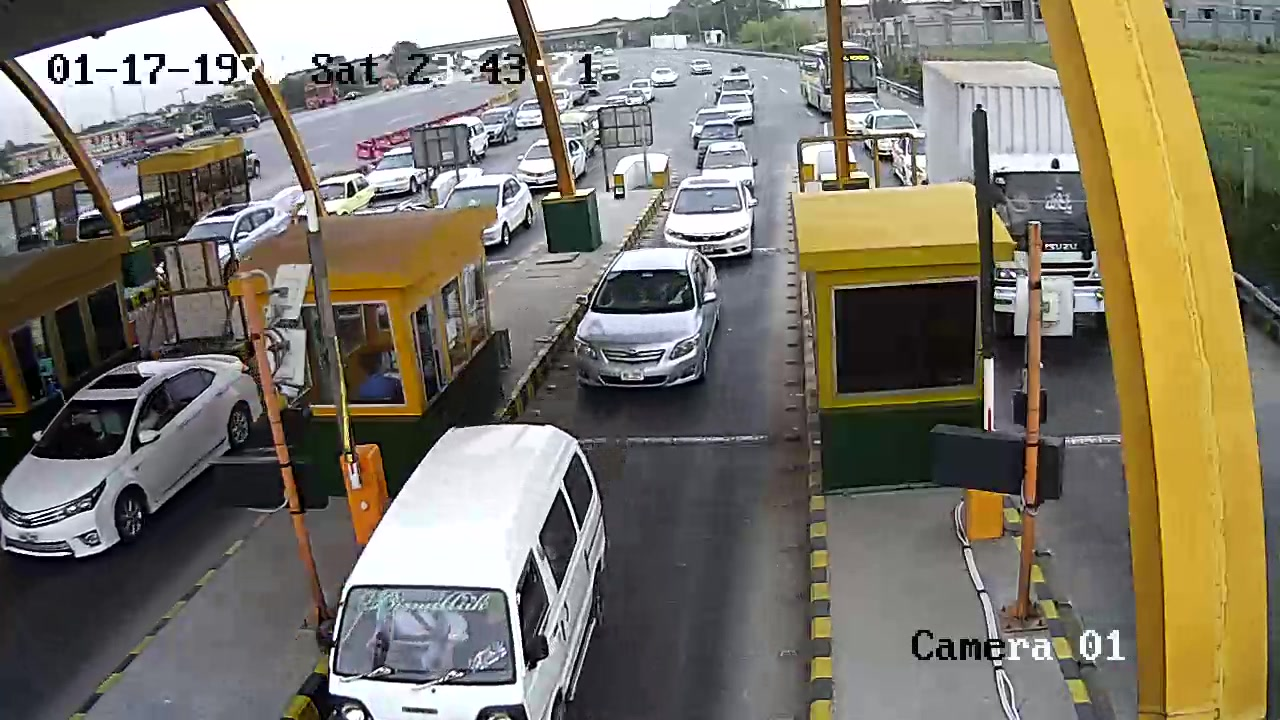F1: (561, 240, 728, 408)
